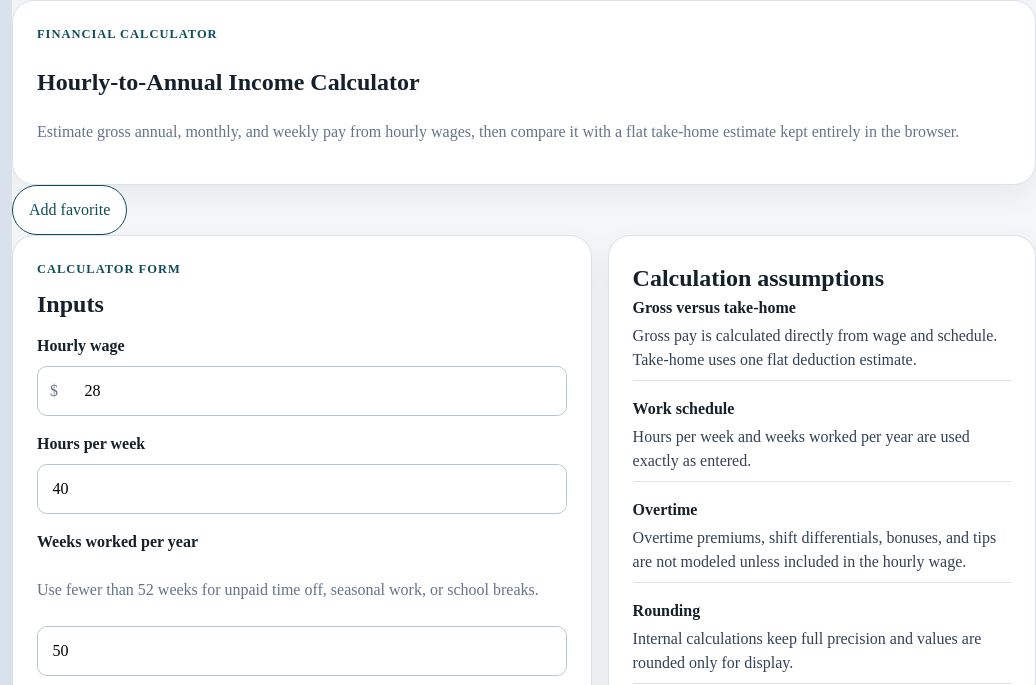
calculator components › shows a validation message for invalid hourly wage and recalculates after correction
Step 1. Clear the number field labelled "Hourly wage" → (318, 391), box top-left (70, 367), bottom-right (566, 415)
(page scrolled)
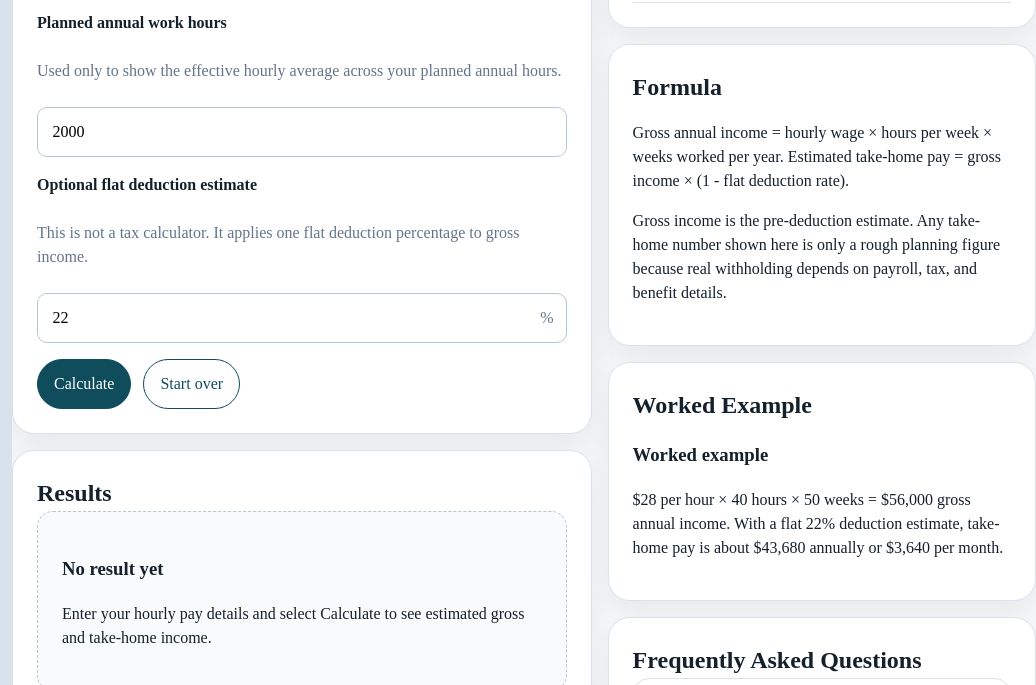
Step 2. Click the button "Calculate" → (84, 384), box top-left (37, 359), bottom-right (131, 409)
(page scrolled)
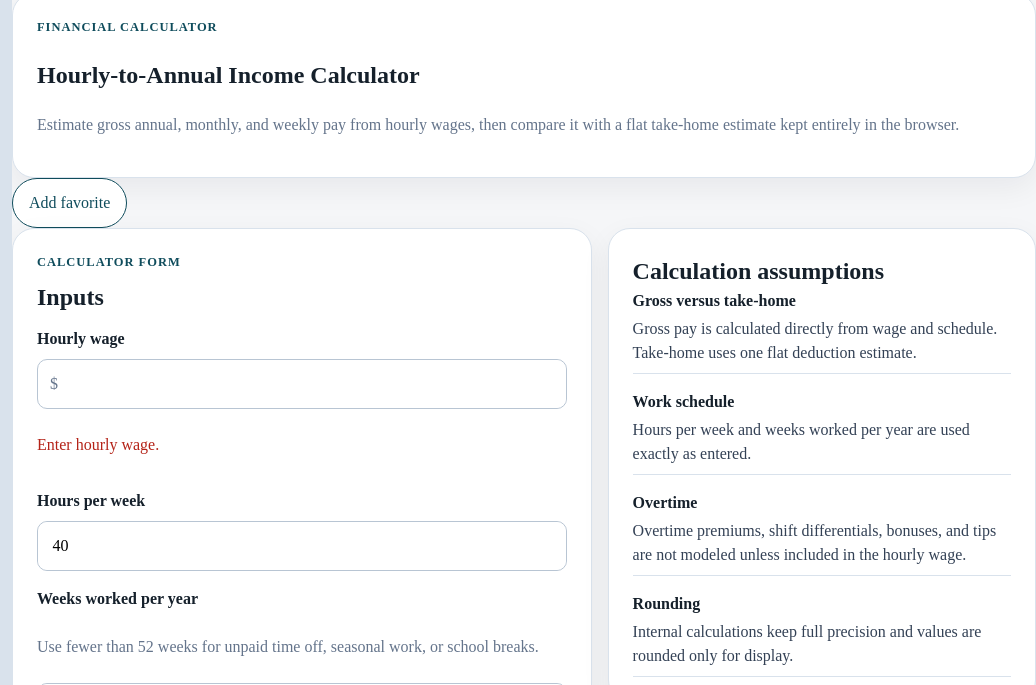
Check: the text "Enter hourly wage." is shown, box top-left (37, 436), bottom-right (159, 453)
Step 3. Type "30" into the number field labelled "Hourly wage" → (318, 384), box top-left (70, 360), bottom-right (566, 408)
(page scrolled)
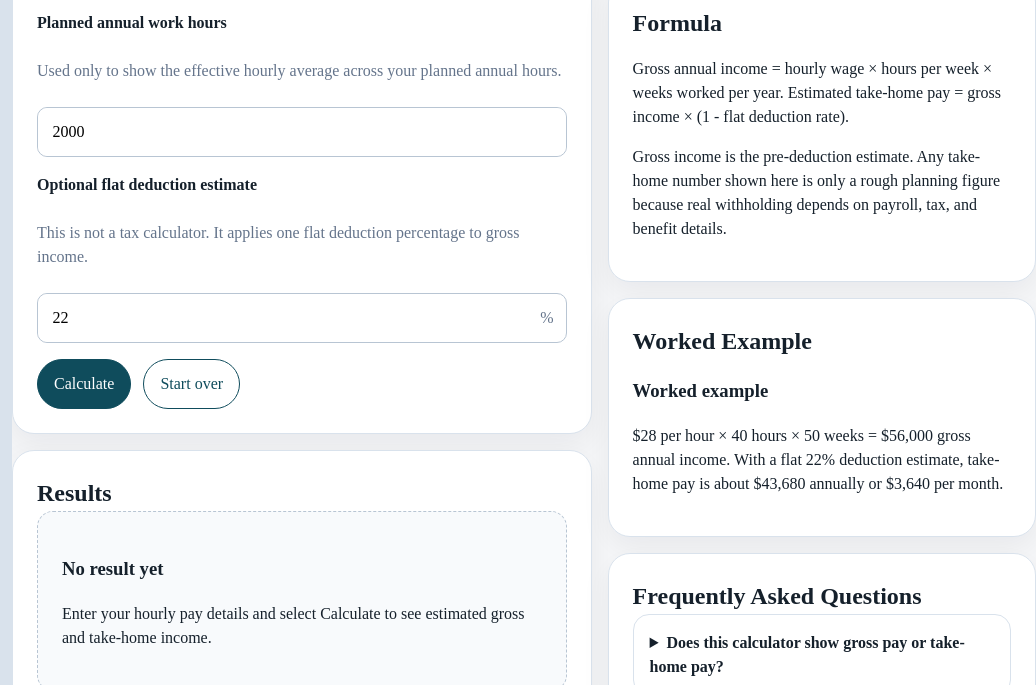
Step 4. Click the button "Calculate" → (84, 384), box top-left (37, 359), bottom-right (131, 409)
(page scrolled)
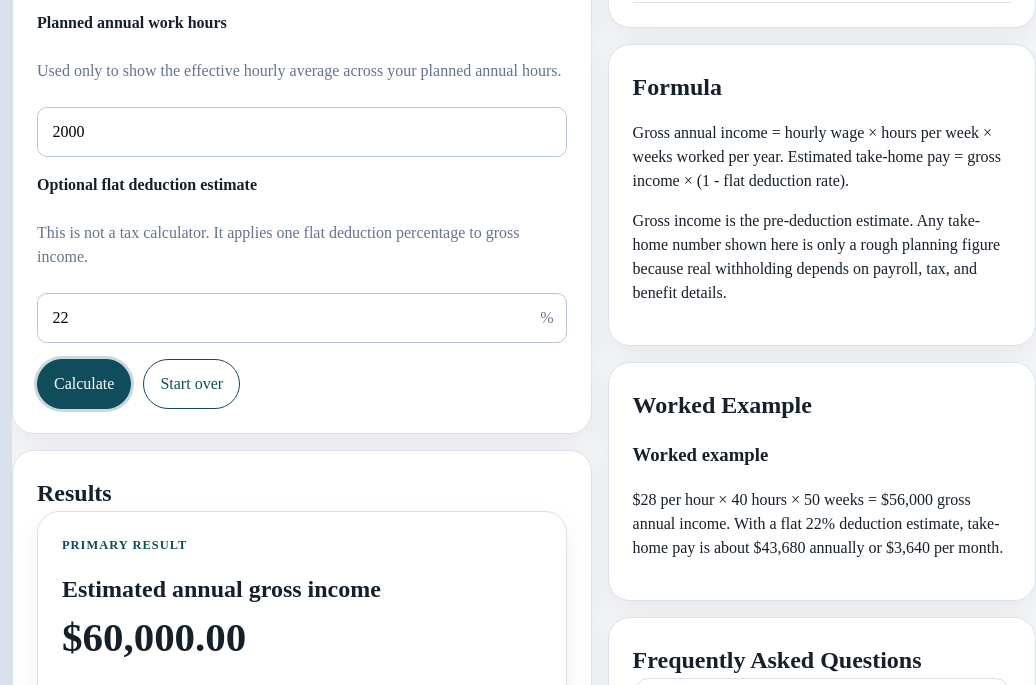
Check: the text "$60,000.00" is shown, box top-left (62, 614), bottom-right (246, 660)
